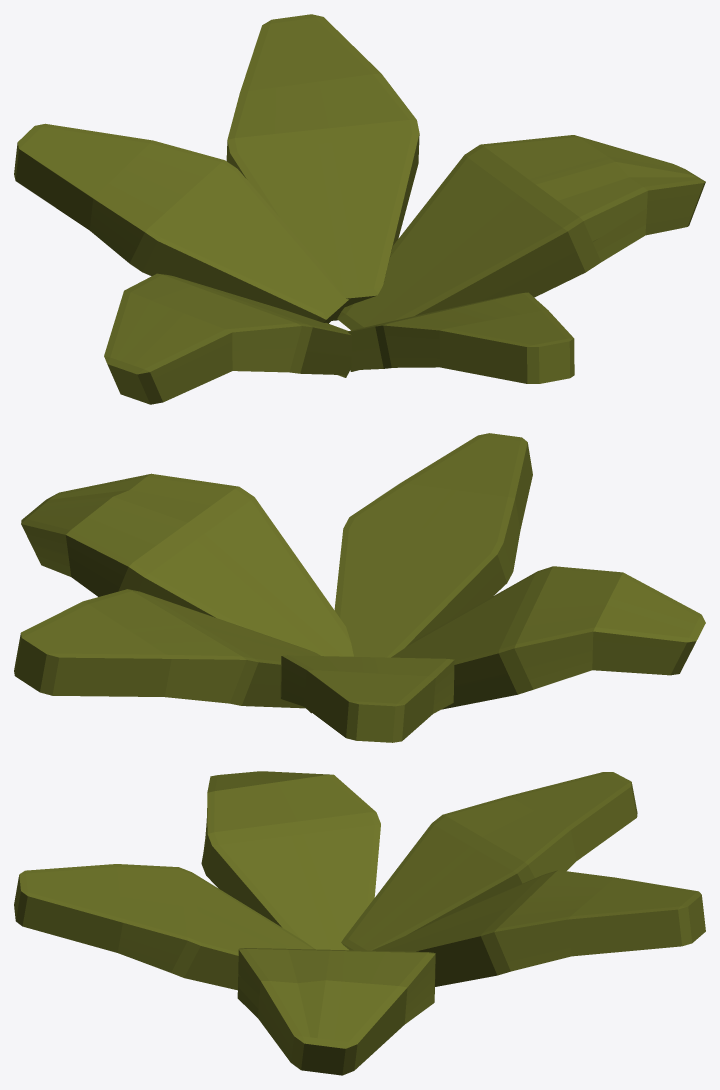
Rendered from Dead Plant.fbx.
The picture shows the model from 3 angles, top to bottom: view 1: azimuth 30°, elevation 25°; view 2: azimuth 150°, elevation 25°; view 3: azimuth 270°, elevation 25°; orthographic projection. The views are drawn at different scales.
Parts seen in each view (by area): view 1: Dead Plant; view 2: Dead Plant; view 3: Dead Plant.
Part boxes in pixels (bbox=[...]): Dead Plant: bbox=[14, 14, 705, 404]; Dead Plant: bbox=[14, 433, 705, 742]; Dead Plant: bbox=[14, 771, 705, 1075].
Size of the model in its own units: 266 by 70.34 by 277.
